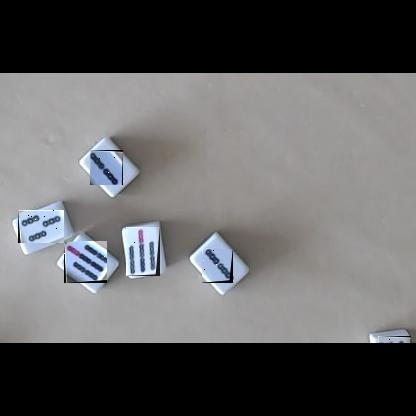2s: (90, 150, 123, 185), (202, 249, 233, 283)
3s: (18, 210, 64, 243)
7s: (64, 241, 107, 283), (126, 227, 160, 276)
9s: (378, 336, 411, 343)
